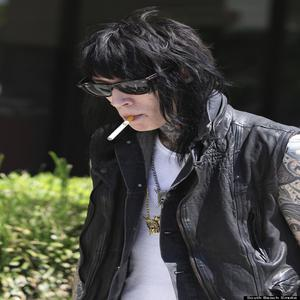cigarette: (106, 114, 135, 142)
